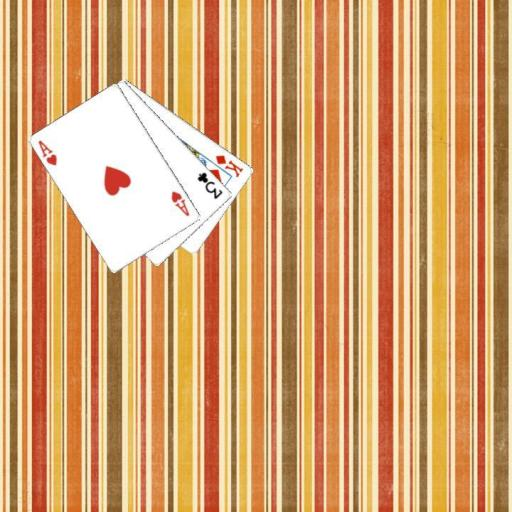3C: (194, 169, 225, 201)
AH: (169, 188, 192, 218), (36, 137, 59, 167)
KD: (213, 152, 245, 179)
